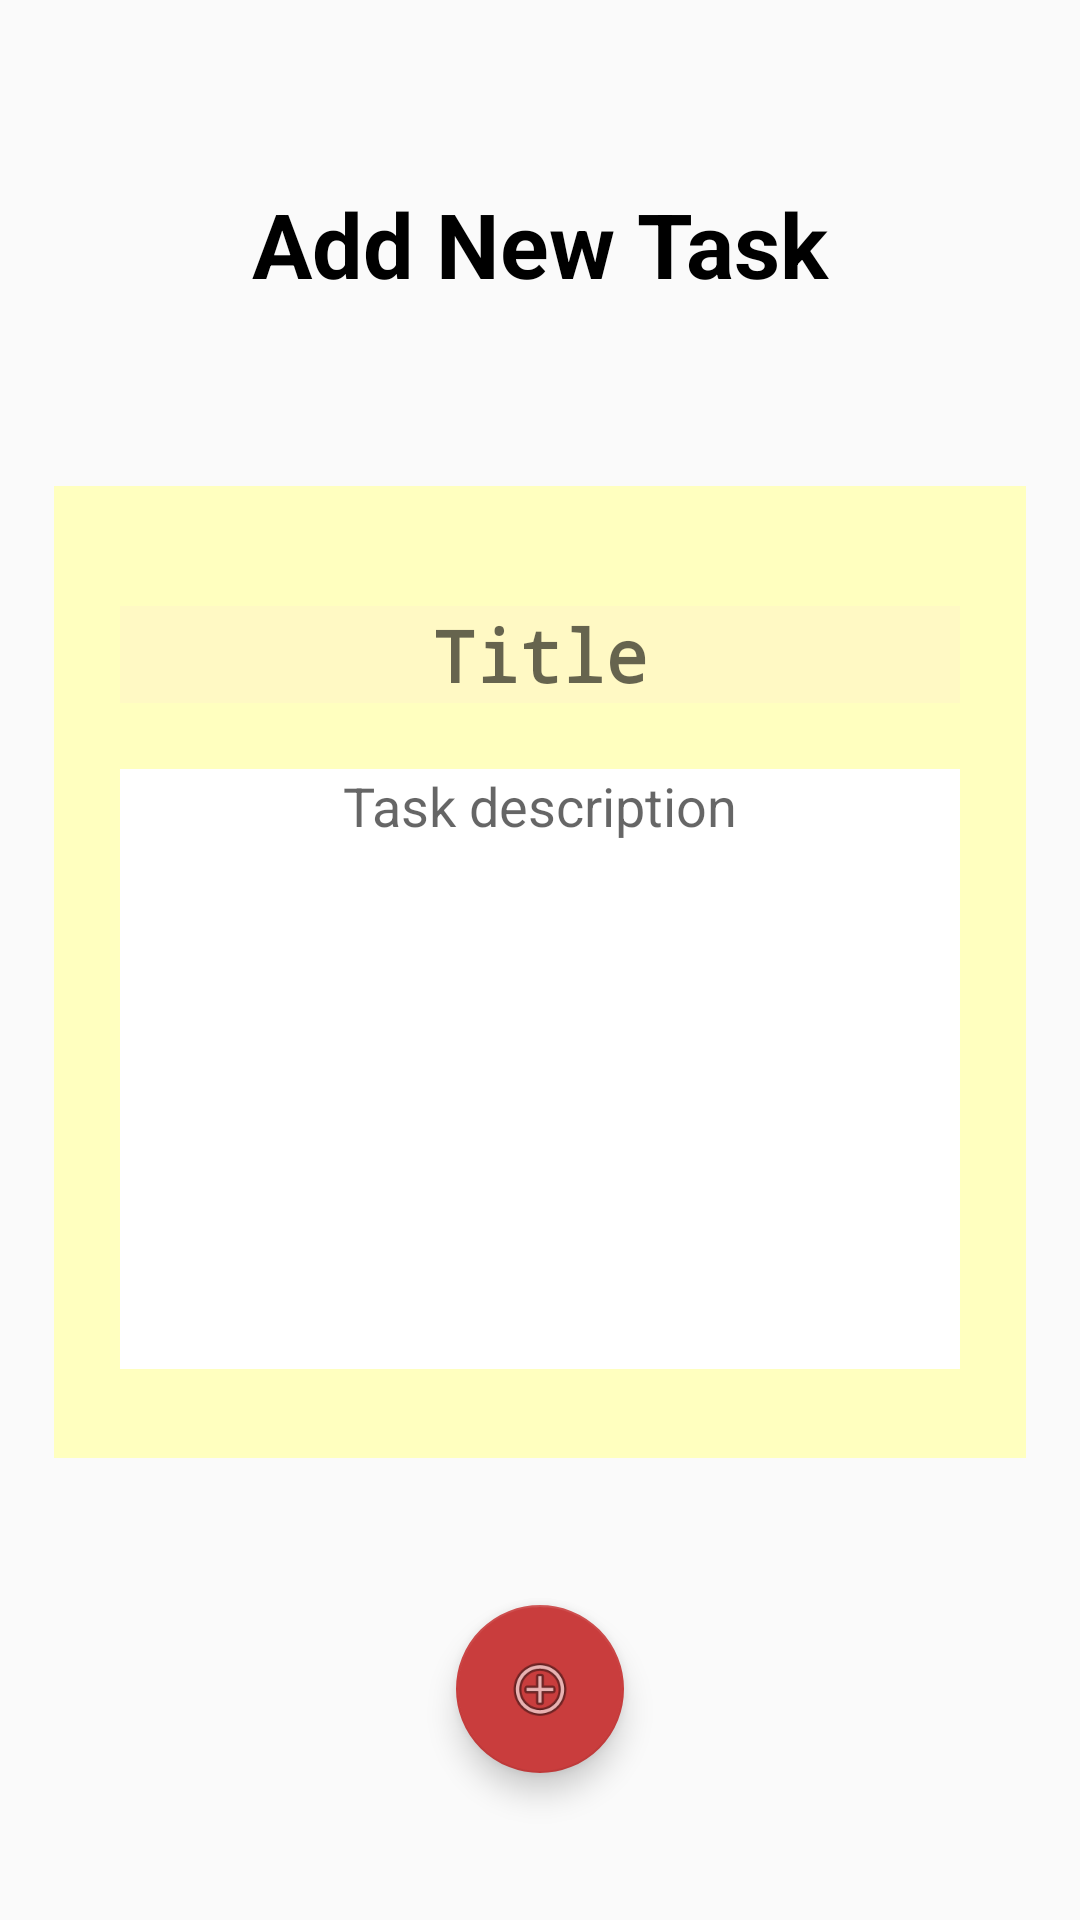

Where to tap for icons on this 1080x1920 app screen, as (x=x, y=y):
add: (x=540, y=1689)
